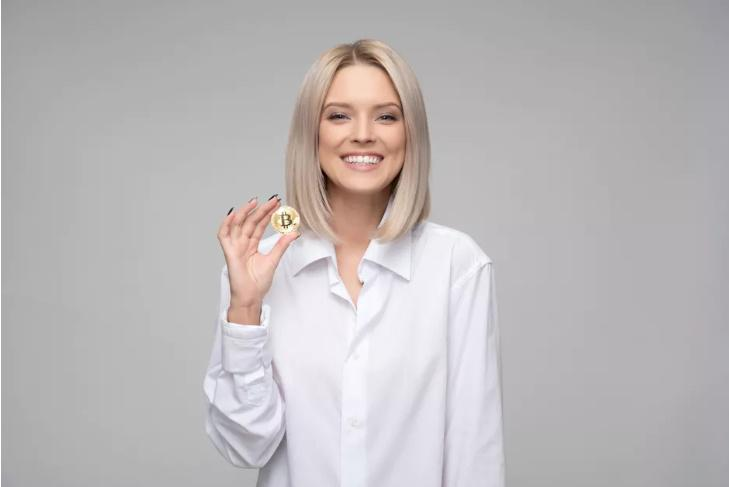face: (319, 65, 406, 193)
